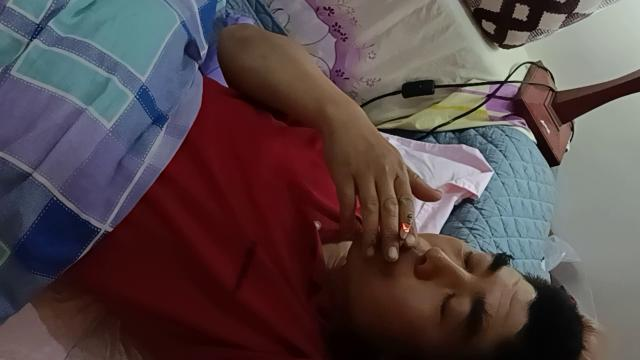Cigarette: (396, 214, 414, 249)
